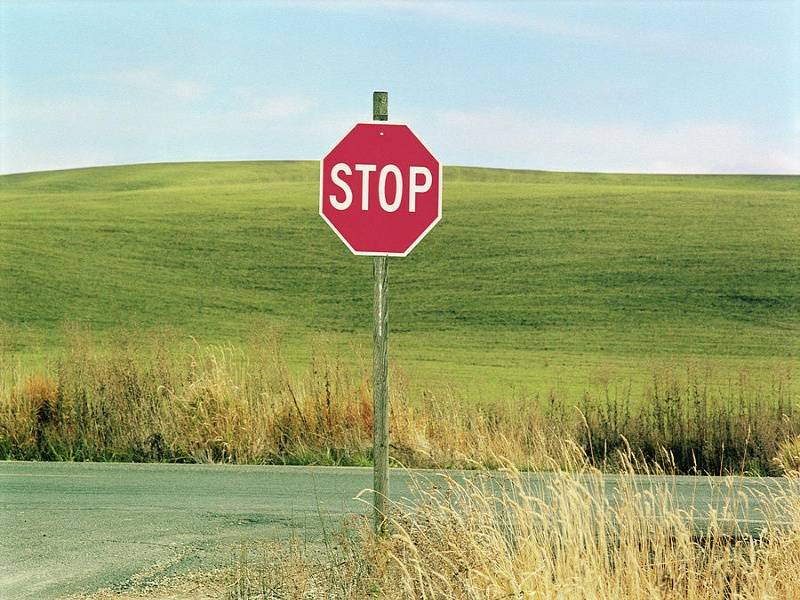stop sign: (317, 118, 443, 260)
